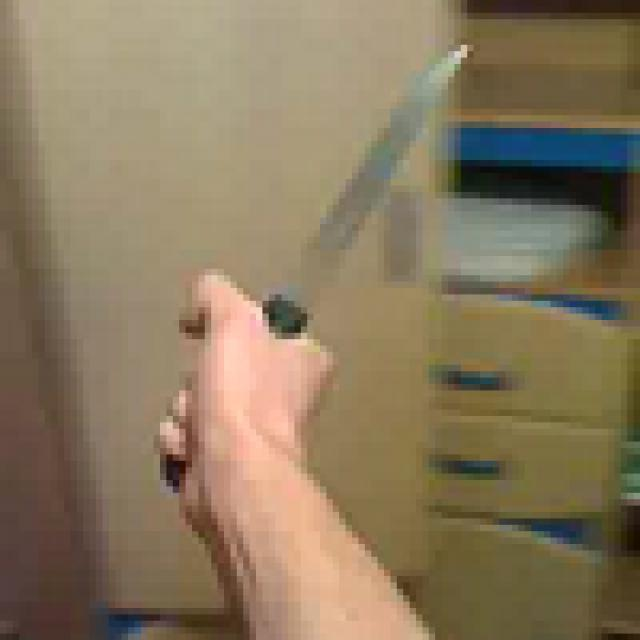knife: (166, 45, 493, 480)
